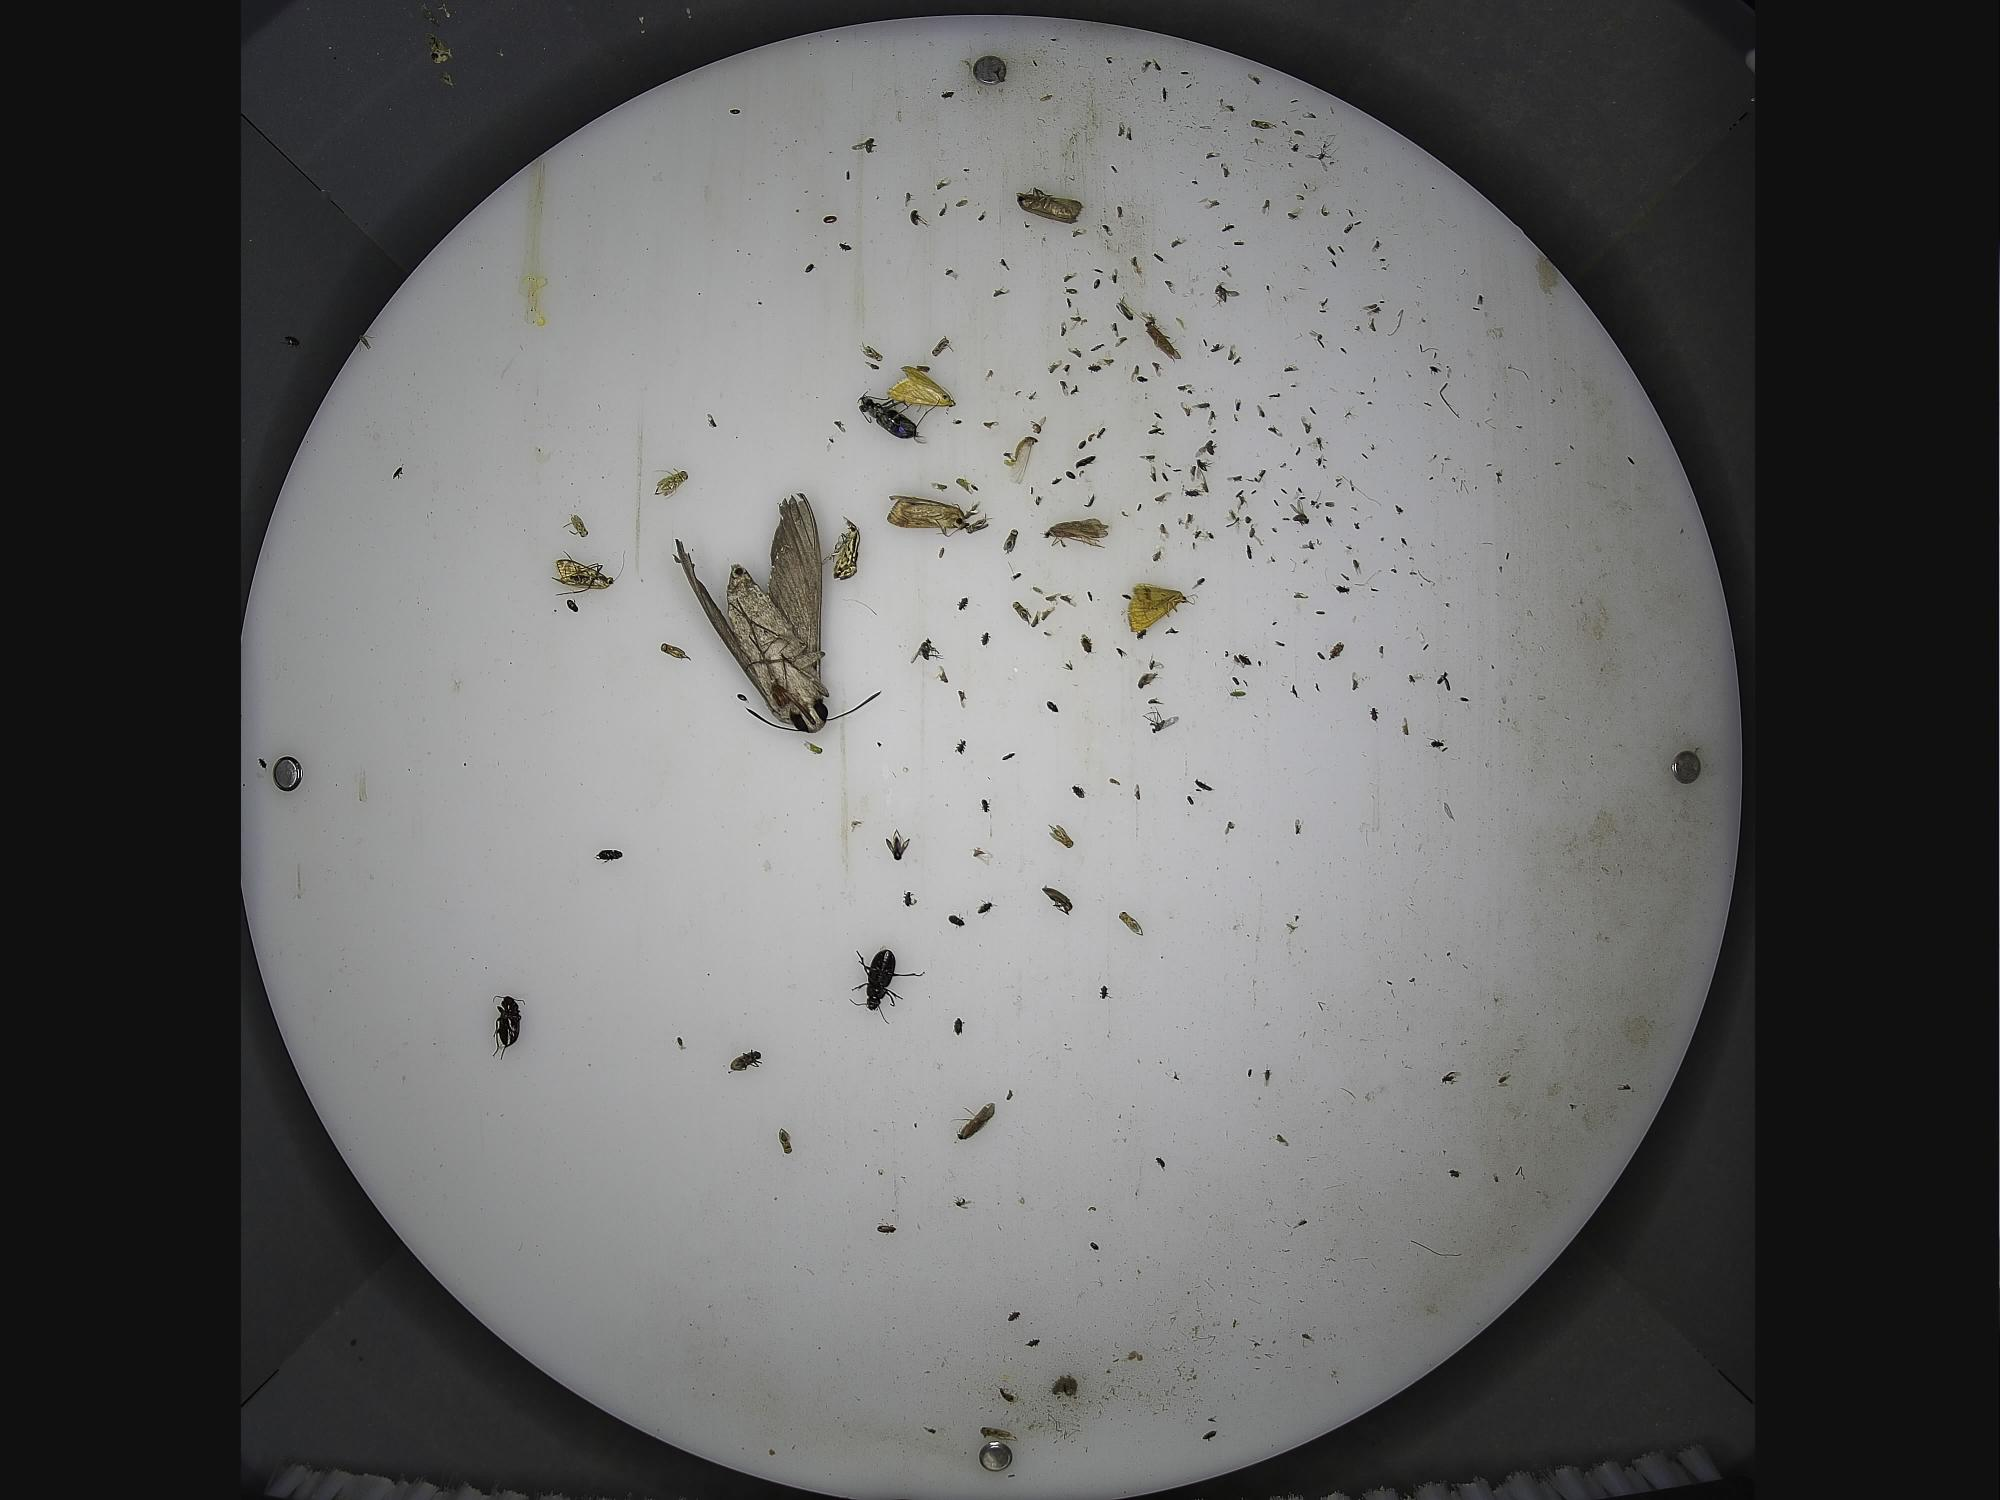Tiny fly: (950, 1098, 997, 1142), (1140, 318, 1184, 364), (649, 465, 688, 499), (1039, 887, 1076, 917), (1140, 709, 1184, 733), (883, 827, 913, 860), (559, 512, 595, 539), (910, 635, 942, 665), (1044, 822, 1076, 851), (1213, 280, 1243, 309), (924, 336, 959, 359), (1117, 911, 1145, 937), (1006, 599, 1033, 622), (776, 1125, 795, 1158), (852, 136, 879, 158), (1076, 630, 1098, 657), (1194, 436, 1220, 459), (1290, 503, 1313, 526), (950, 1193, 973, 1215), (969, 845, 995, 863), (950, 474, 973, 495), (1181, 482, 1205, 503), (1224, 684, 1249, 703), (858, 342, 883, 361), (910, 208, 932, 228), (1145, 649, 1167, 670), (898, 890, 921, 909), (1003, 526, 1019, 555), (1039, 358, 1063, 377), (954, 689, 975, 709), (1025, 418, 1049, 435), (946, 912, 965, 930), (1069, 783, 1088, 800), (951, 1015, 967, 1035), (980, 794, 994, 816), (934, 178, 956, 192), (991, 287, 1014, 299), (1153, 492, 1173, 506), (1165, 238, 1191, 249), (1263, 1064, 1272, 1090), (1350, 668, 1359, 693), (1285, 208, 1302, 221), (1134, 782, 1143, 802), (1058, 592, 1076, 603), (1293, 816, 1302, 834)
beetle: (847, 942, 931, 1030), (488, 985, 528, 1065), (724, 1045, 769, 1079)
insect: (594, 849, 625, 865)
moth: (661, 488, 887, 742), (883, 488, 984, 542), (1123, 585, 1200, 640), (545, 547, 628, 597), (883, 361, 961, 414), (1011, 180, 1088, 227), (1041, 514, 1115, 556), (831, 507, 871, 586)
